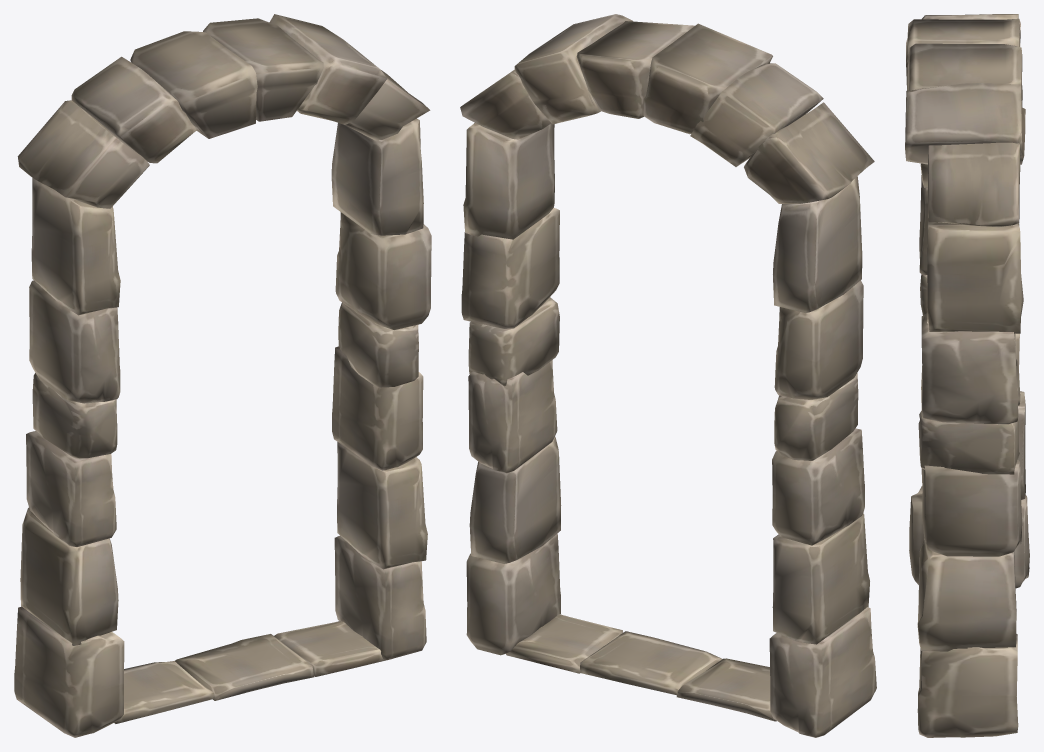
File: DoorFrame_Round_Brick.glb
3 renders of one model, left to right at view 1: azimuth 30°, elevation 25°; view 2: azimuth 150°, elevation 25°; view 3: azimuth 270°, elevation 25°, orthographic. The views are drawn at different scales.
Visible parts, largest first — view 1: DoorFrame_Round_Brick; view 2: DoorFrame_Round_Brick; view 3: DoorFrame_Round_Brick.
Part boxes in pixels (x1,y1,x2,y2): DoorFrame_Round_Brick: (14, 14, 431, 737); DoorFrame_Round_Brick: (460, 14, 876, 737); DoorFrame_Round_Brick: (905, 14, 1029, 737).
Size of the model in its own units: 1.6 by 2.59 by 0.477.
1 material, 1 textured.
